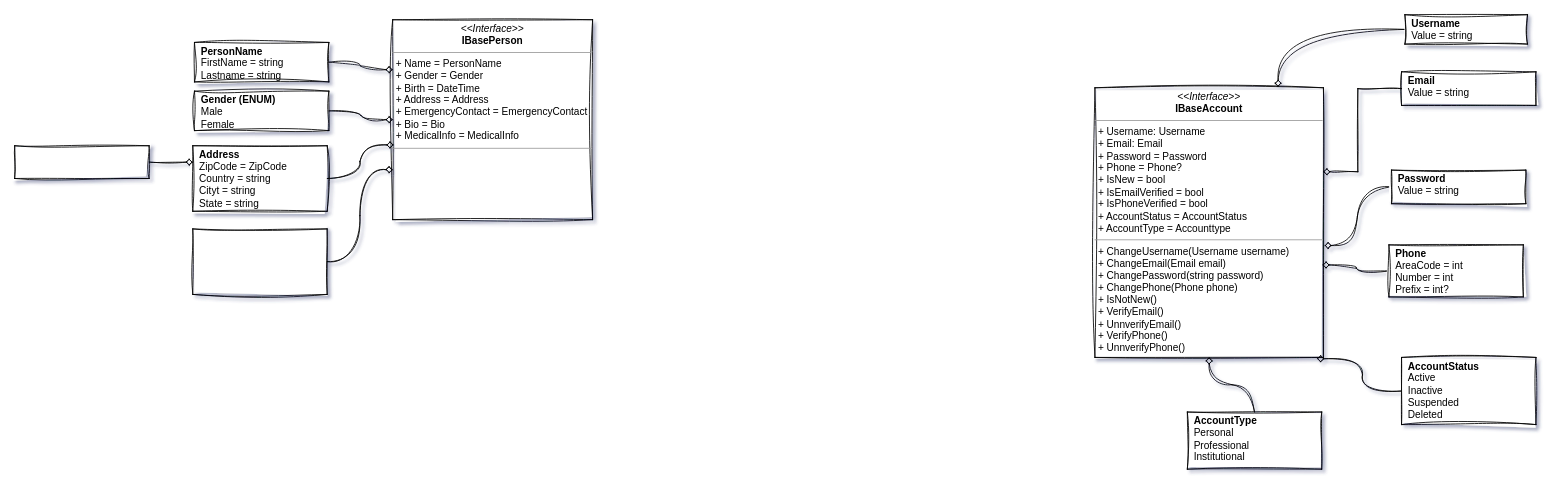
Some shapes in this 1556 by 489 pixel diagram are drawn without their labels. The centre of each missing label's shape, as x and y in pixels:
EmergencyContact Name = PersonName: the point at 259,261
ZipCode Value = string: the point at 81,161
